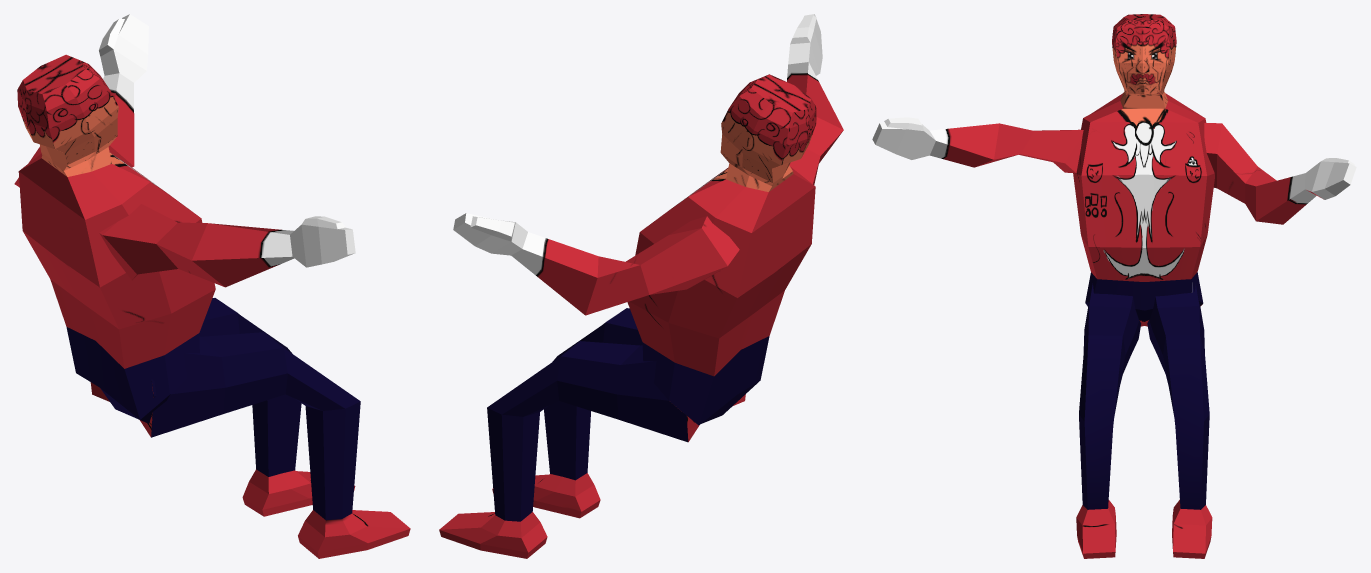
File: AssisSurpris.fbx
The picture shows the model from 3 angles, left to right: view 1: azimuth 30°, elevation 25°; view 2: azimuth 150°, elevation 25°; view 3: azimuth 270°, elevation 25°; orthographic projection. The views are drawn at different scales.
Visible parts, largest first — view 1: Cube.001; view 2: Cube.001; view 3: Cube.001.
Boxes of the visible parts, x1,y1,x2,y2 form: Cube.001: [14, 14, 410, 558]; Cube.001: [439, 14, 843, 558]; Cube.001: [872, 14, 1356, 558].
Bounding box in the file's own units: 225 × 323 × 335.
